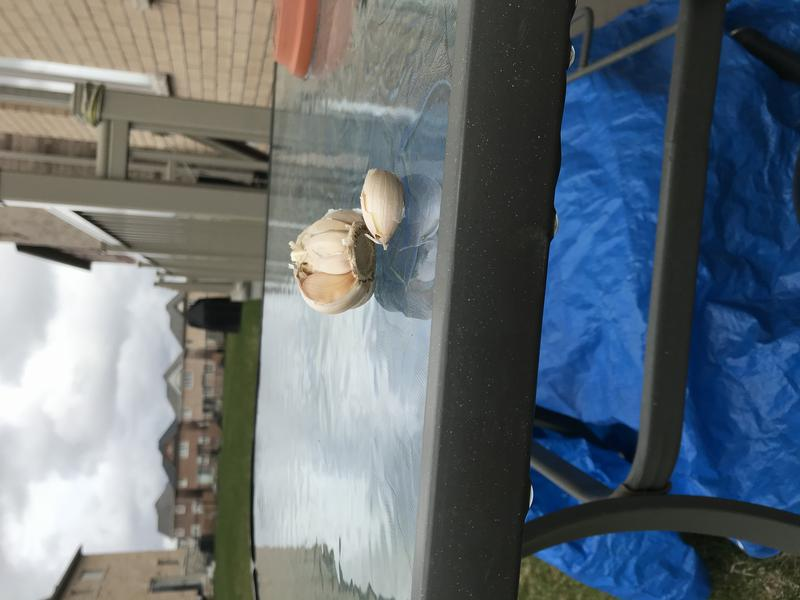garlic: (284, 204, 378, 325), (357, 165, 413, 246)
